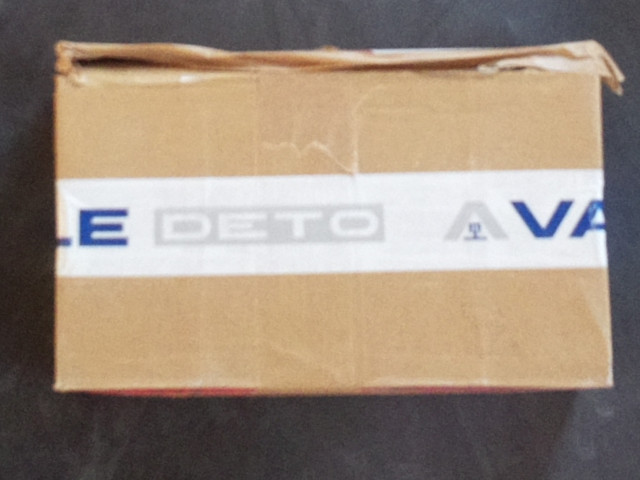cardboard: (56, 38, 614, 391)
